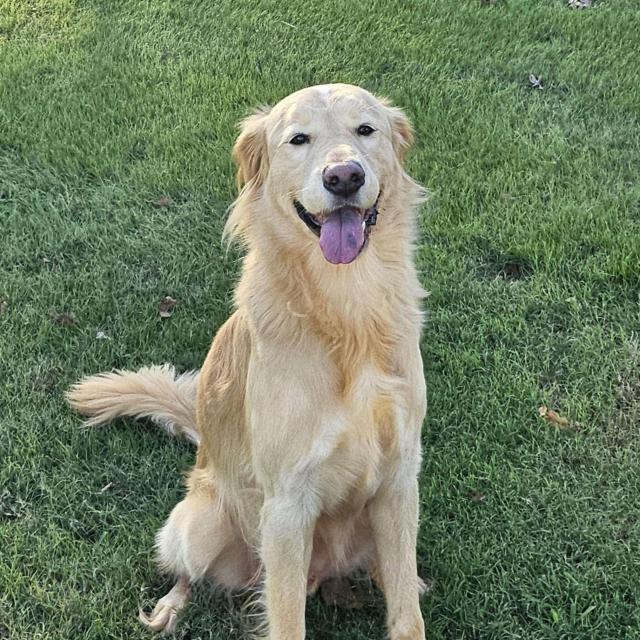golden_retriever_dog: (210, 70, 441, 294)
